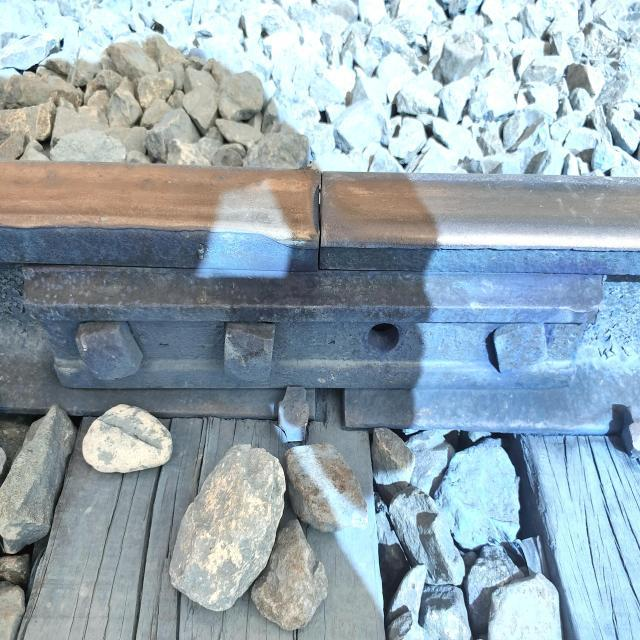Defective Joint: (21, 263, 608, 397)
Good Fasteners: (278, 387, 309, 442)
